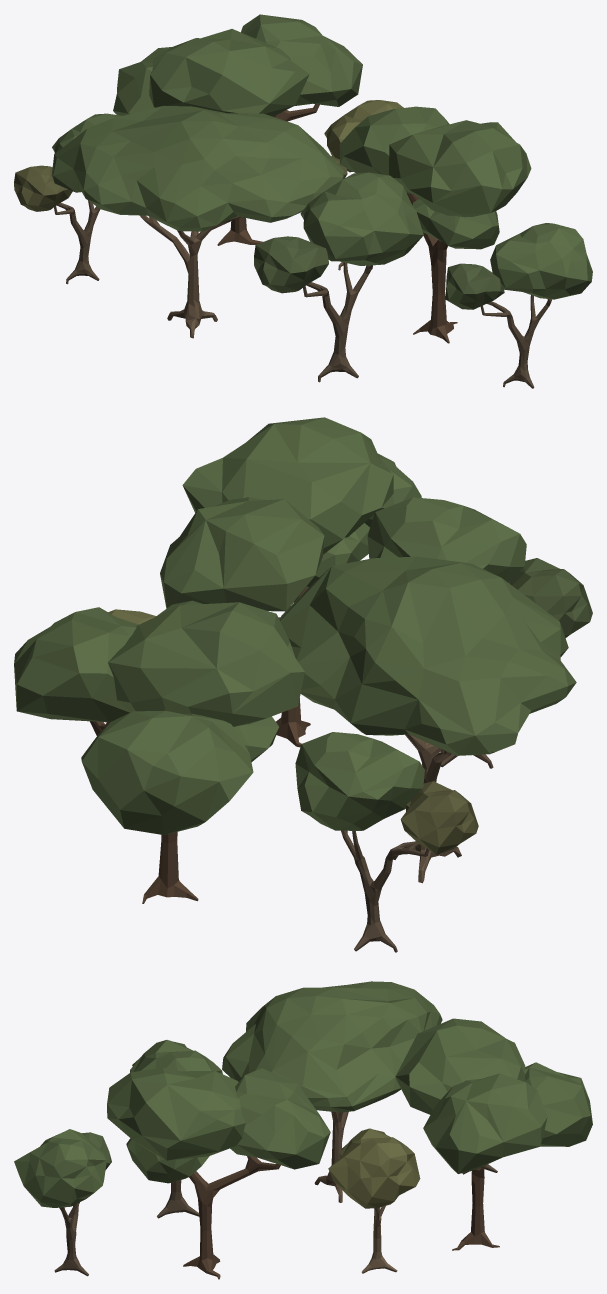
Rendered from SM_Envr_Nature_Tree_Group_02.fbx.
3 renders of one model, top to bottom at view 1: azimuth 30°, elevation 25°; view 2: azimuth 150°, elevation 25°; view 3: azimuth 270°, elevation 25°, orthographic. The views are drawn at different scales.
Parts seen in each view (by area): view 1: SM_Envr_Nature_Tree_Group_02; view 2: SM_Envr_Nature_Tree_Group_02; view 3: SM_Envr_Nature_Tree_Group_02.
Part boxes in pixels (x1,y1,x2,y2): SM_Envr_Nature_Tree_Group_02: (14,14,592,388); SM_Envr_Nature_Tree_Group_02: (14,417,592,952); SM_Envr_Nature_Tree_Group_02: (14,981,592,1279).
Bounding box in the file's own units: 1143 × 674 × 1727.
